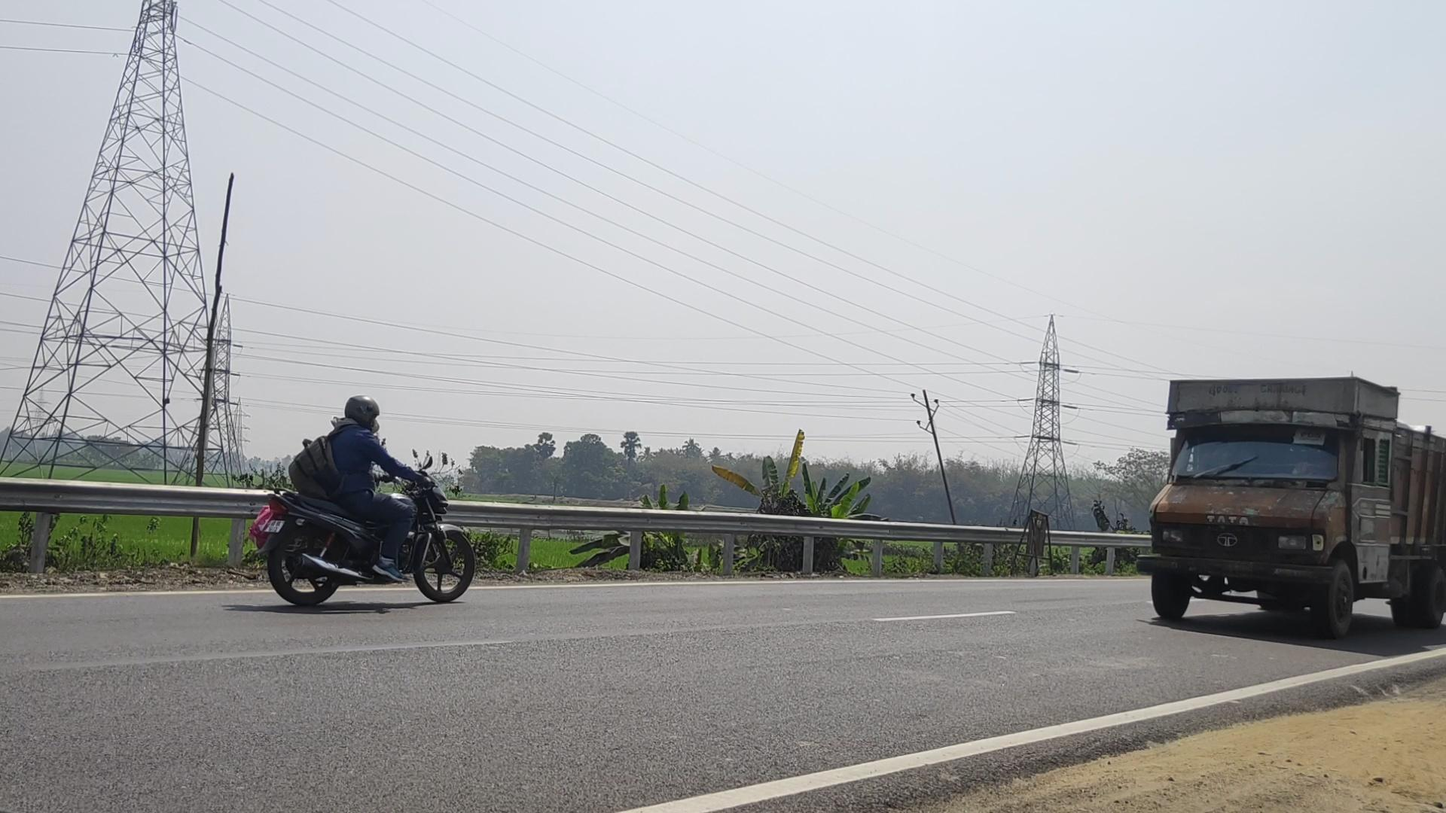bike: (258, 395, 475, 607)
truck: (1138, 376, 1446, 640)
